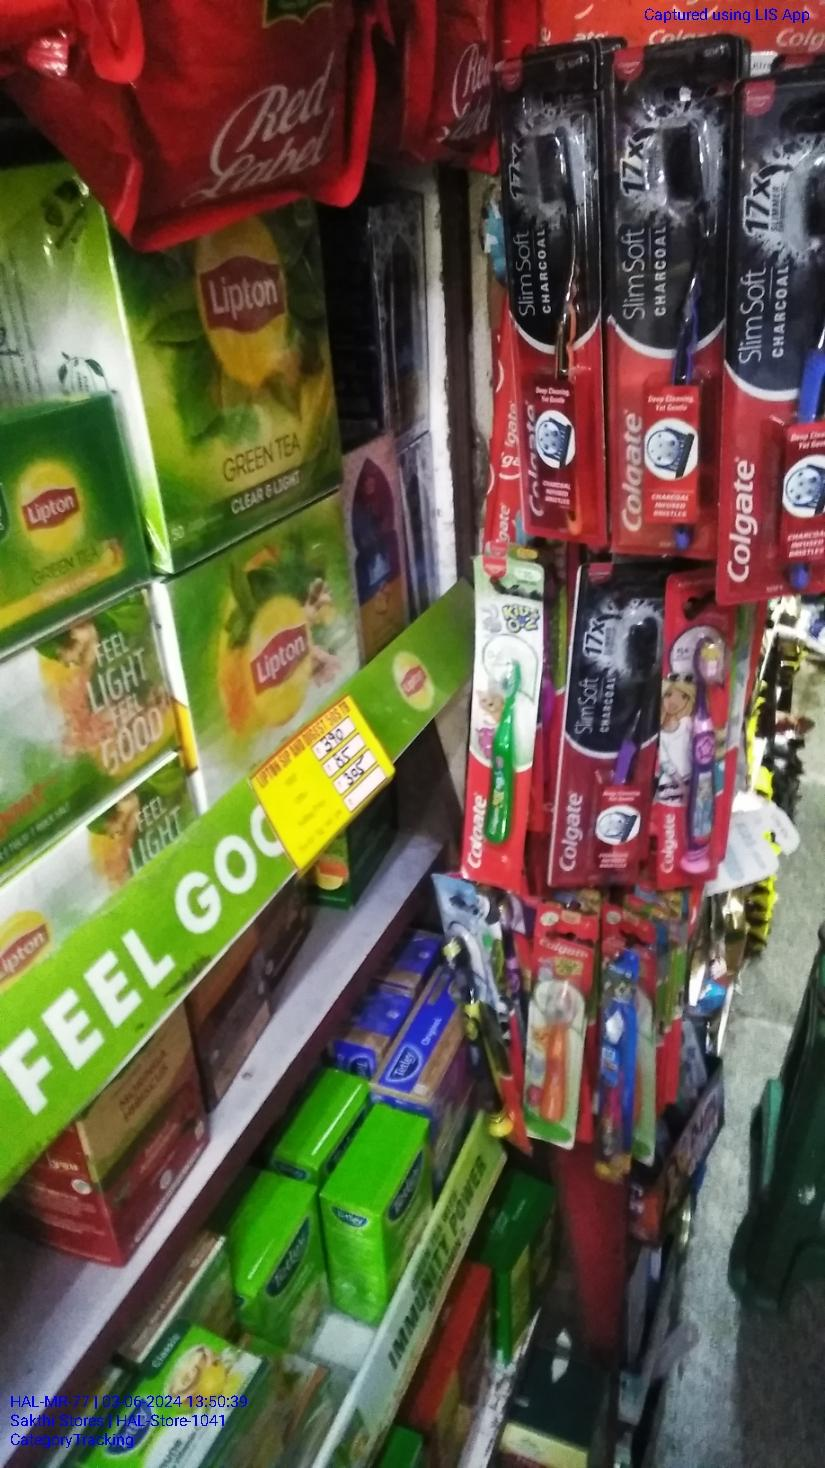soap: (609, 46, 712, 552), (728, 80, 825, 604), (499, 54, 590, 539), (562, 569, 649, 886)
